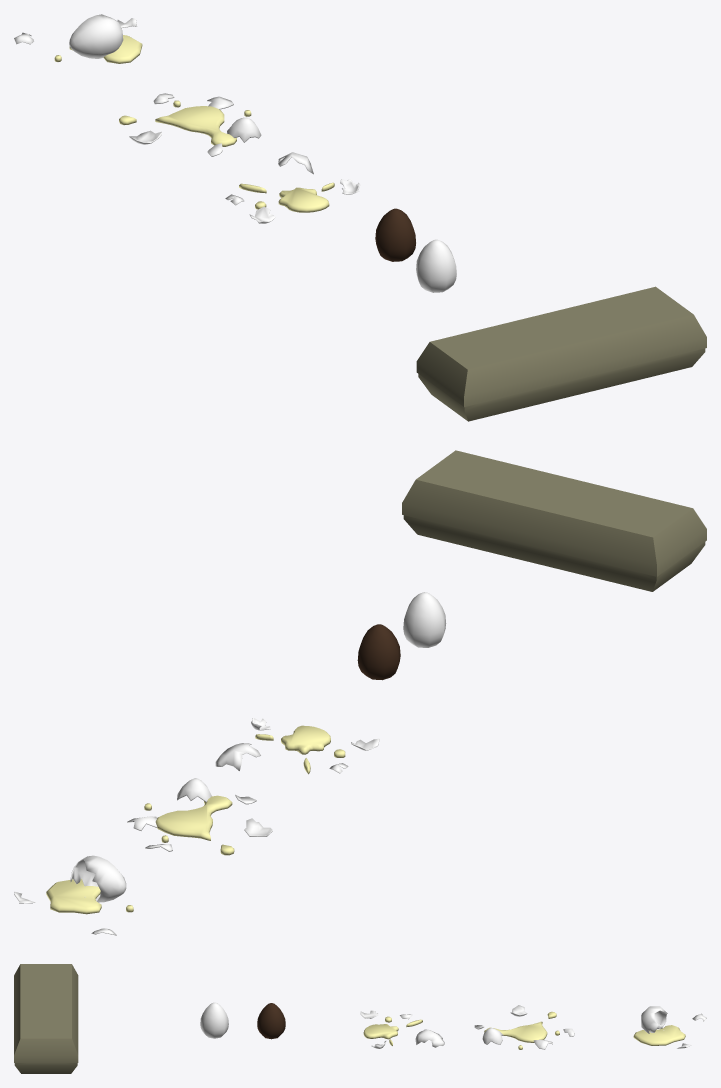
File: raw eggs.fbx
3 views of the same model, one above another, from view 1: azimuth 30°, elevation 25°; view 2: azimuth 150°, elevation 25°; view 3: azimuth 270°, elevation 25° (orthographic). The views are drawn at different scales.
Visible parts, largest first — view 1: Egg Carton Top, Egg Carton Bottom, Egg Splatter 2 Yolk, Egg Splatter 1 Shell a, Egg, Chocolate Egg, Egg Splatter 3 Yolk, Egg Splatter 1 Yolk; view 2: Egg Carton Top, Egg Carton Bottom, Egg Splatter 2 Yolk, Chocolate Egg, Egg, Egg Splatter 1 Shell a, Egg Splatter 1 Yolk, Egg Splatter 3 Yolk; view 3: Egg Carton Top, Chocolate Egg, Egg, Egg Splatter 2 Yolk, Egg Splatter 1 Yolk, Egg Carton Bottom, Egg Splatter 3 Yolk, Egg Splatter 1 Shell a, Egg Splatter 3 Shell d, Egg Splatter 2 shell d.
Boxes of the visible parts, box(x1,y1,x2,y2) form: Egg Carton Top: box(416, 286, 706, 407); Egg Carton Bottom: box(418, 348, 705, 421); Egg Splatter 2 Yolk: box(119, 100, 251, 146); Egg Splatter 1 Shell a: box(69, 14, 123, 58); Egg: box(416, 239, 456, 292); Chocolate Egg: box(375, 208, 415, 261); Egg Splatter 3 Yolk: box(239, 182, 334, 212); Egg Splatter 1 Yolk: box(54, 35, 142, 63); Egg Carton Top: box(402, 450, 706, 576); Egg Carton Bottom: box(403, 515, 705, 591); Egg Splatter 2 Yolk: box(144, 795, 234, 855); Chocolate Egg: box(357, 624, 400, 680); Egg: box(403, 592, 446, 647); Egg Splatter 1 Shell a: box(70, 855, 126, 902); Egg Splatter 1 Yolk: box(46, 879, 133, 914); Egg Splatter 3 Yolk: box(255, 725, 345, 774); Egg Carton Top: box(14, 964, 78, 1062); Chocolate Egg: box(257, 1003, 285, 1039); Egg: box(200, 1002, 228, 1038); Egg Splatter 2 Yolk: box(484, 1011, 559, 1049); Egg Splatter 1 Yolk: box(633, 1025, 685, 1045); Egg Carton Bottom: box(14, 1063, 77, 1073); Egg Splatter 3 Yolk: box(363, 1016, 422, 1045); Egg Splatter 1 Shell a: box(641, 1006, 667, 1033); Egg Splatter 3 Shell d: box(415, 1029, 444, 1047); Egg Splatter 2 shell d: box(482, 1028, 503, 1044).
Bounding box in the file's own units: 0.6956 × 0.1445 × 2.54.
